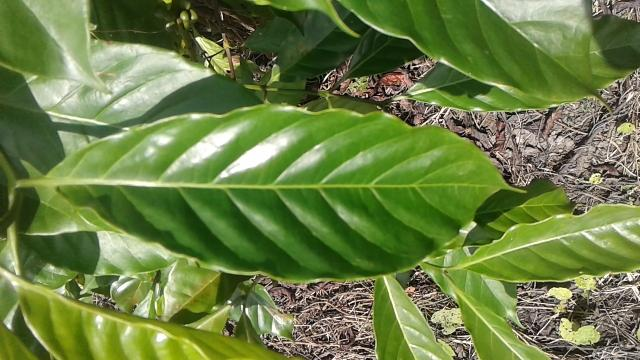healthy: (38, 100, 539, 284)
